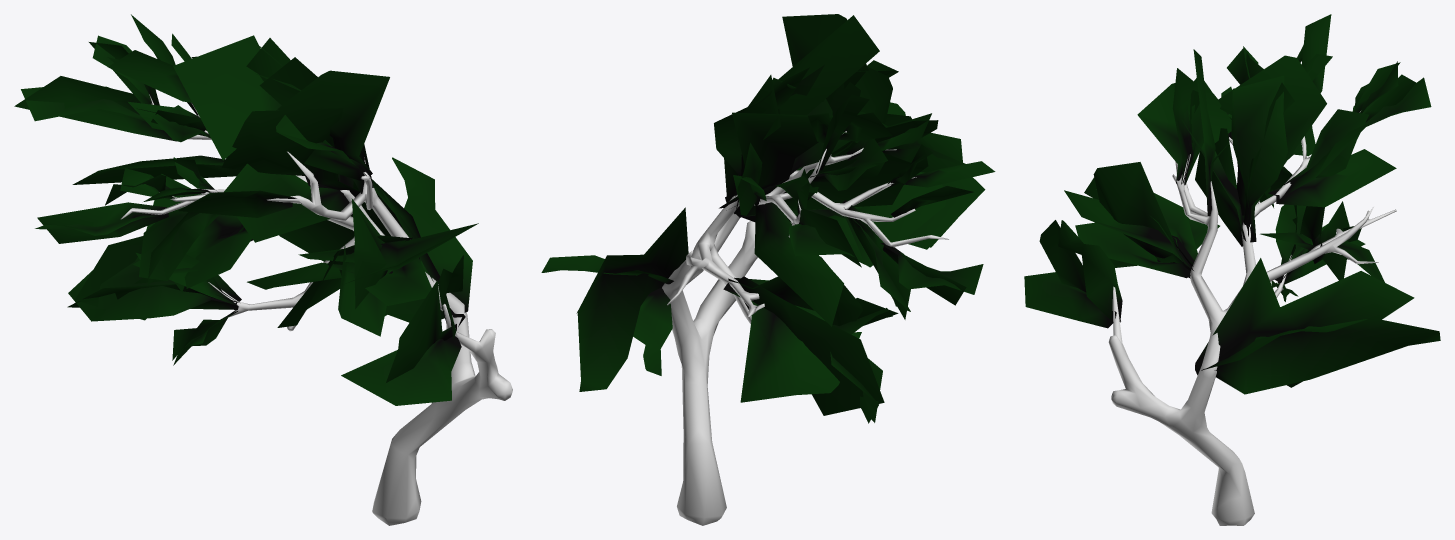
File: DeadTreeCATAM_C.fbx
The picture shows the model from 3 angles, left to right: view 1: azimuth 30°, elevation 25°; view 2: azimuth 150°, elevation 25°; view 3: azimuth 270°, elevation 25°; orthographic projection. The views are drawn at different scales.
Visible parts, largest first — view 1: DeadTreeCATAM_C_Leaves_LOD0, DeadTreeCATAM_C_Trunk_LOD0; view 2: DeadTreeCATAM_C_Leaves_LOD0, DeadTreeCATAM_C_Trunk_LOD0; view 3: DeadTreeCATAM_C_Leaves_LOD0, DeadTreeCATAM_C_Trunk_LOD0.
Boxes of the visible parts, x1,y1,x2,y2 form: DeadTreeCATAM_C_Leaves_LOD0: (14, 14, 478, 405); DeadTreeCATAM_C_Trunk_LOD0: (120, 94, 512, 525); DeadTreeCATAM_C_Leaves_LOD0: (541, 14, 995, 423); DeadTreeCATAM_C_Trunk_LOD0: (662, 131, 948, 525); DeadTreeCATAM_C_Leaves_LOD0: (1024, 14, 1440, 394); DeadTreeCATAM_C_Trunk_LOD0: (1108, 111, 1396, 525).
Size of what is drawn, in the model's own units: 2.93 by 3.5 by 3.11.
